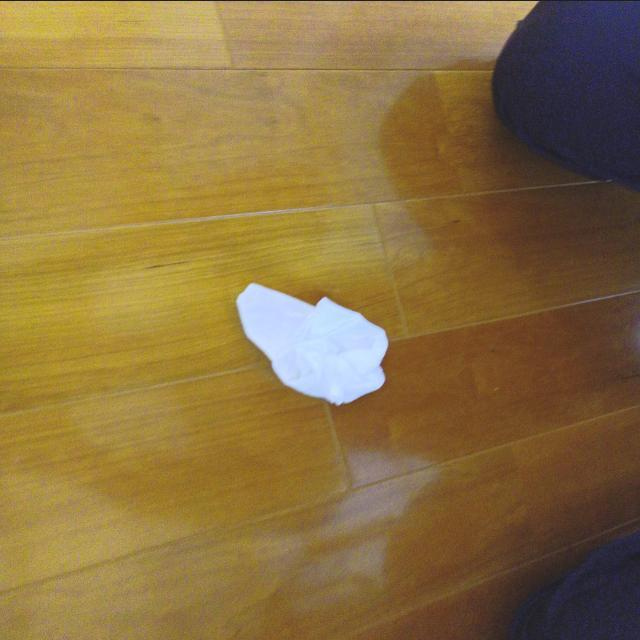Paper: (220, 244, 400, 412)
